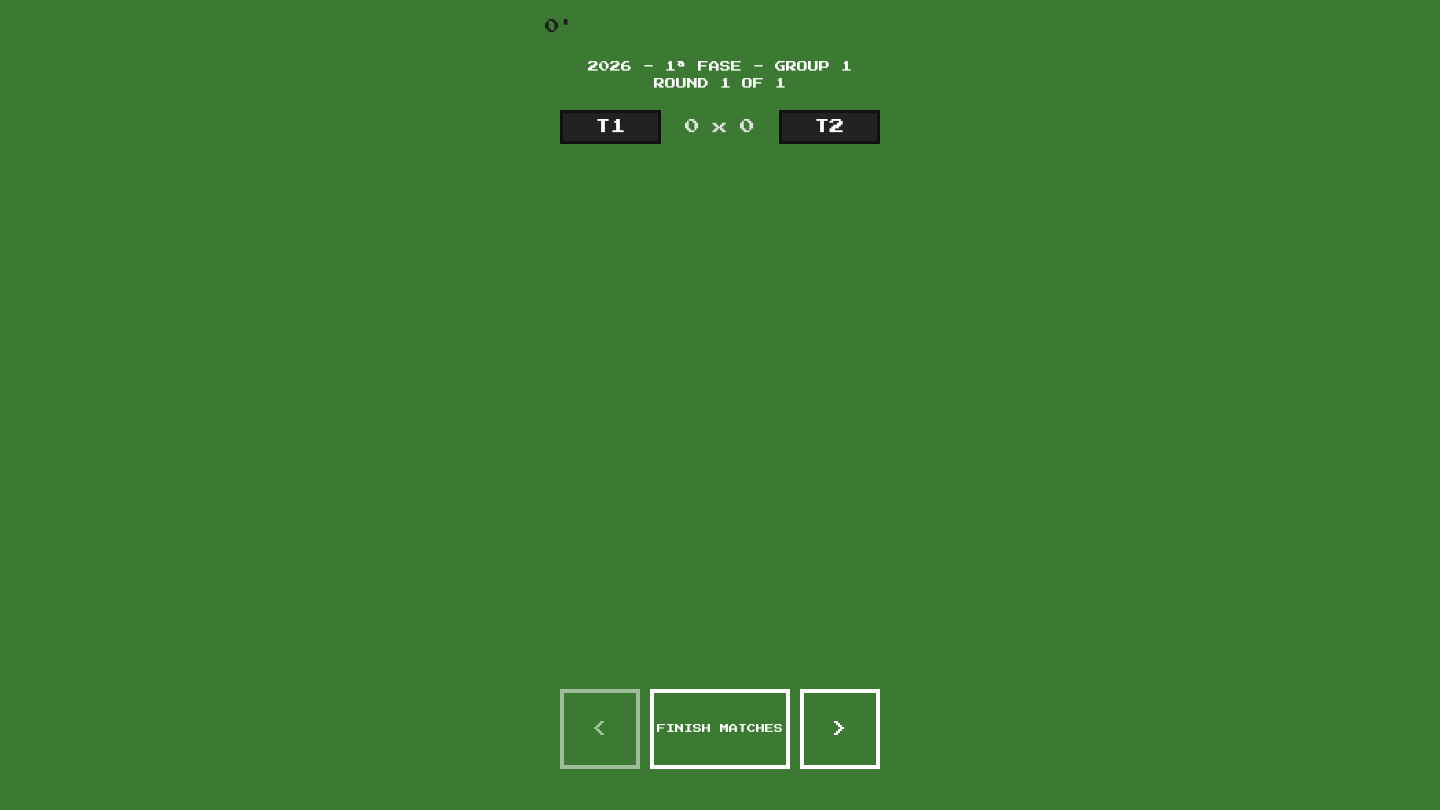
Scenario: MatchSimulator — group stage › shows one group per page, with the group in the title
Expected: the text "2026 - 1ª Fase - GROUP 1" is shown, [565,59,875,76]
Expected: the heading "T1" is shown, [596,116,626,138]
Click the button ">" at (840, 729), box [800,689,880,769]
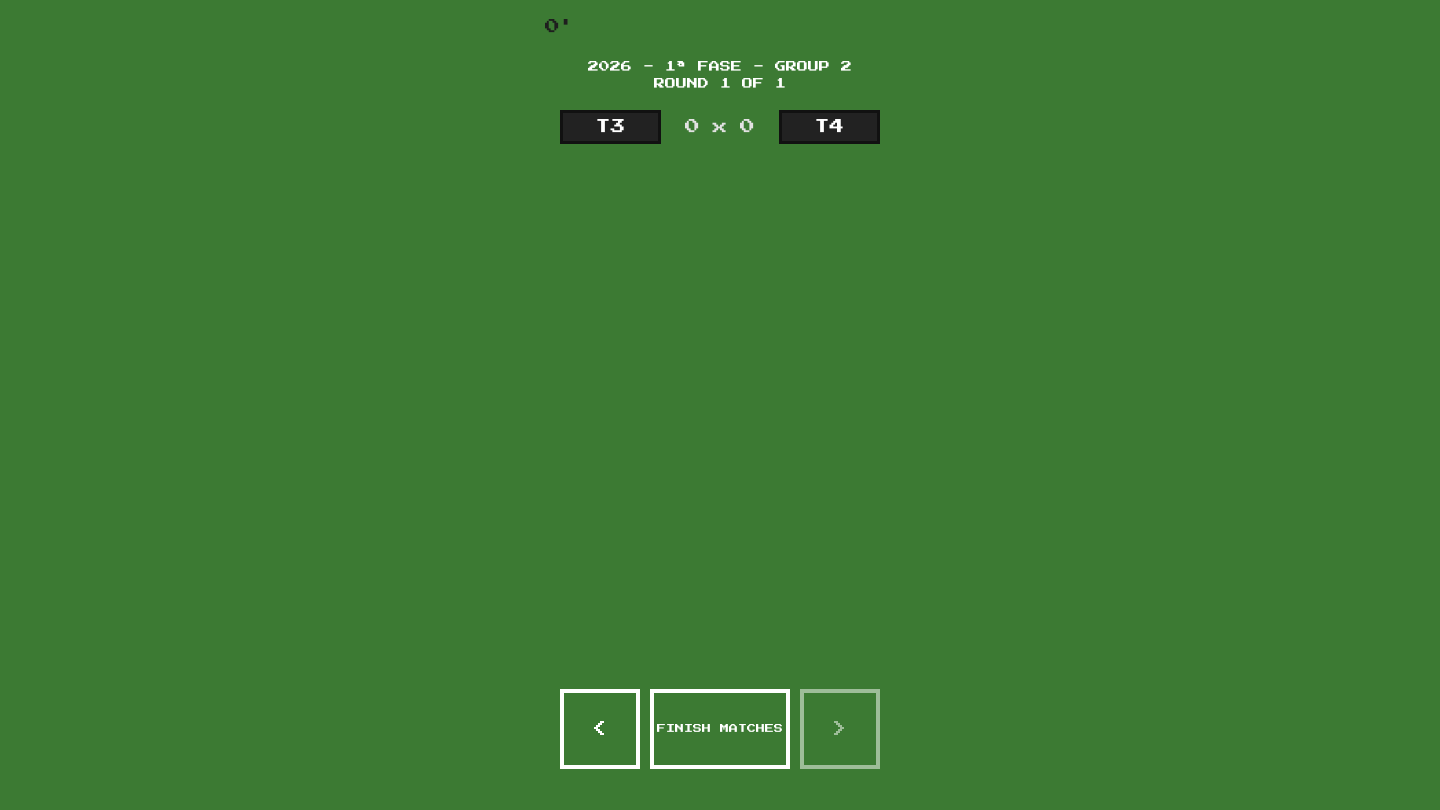
Now the text "2026 - 1ª Fase - GROUP 2" is shown, box [565,59,875,76]
Now the heading "T3" is shown, box [596,116,626,138]
Now the heading "T1" is gone
